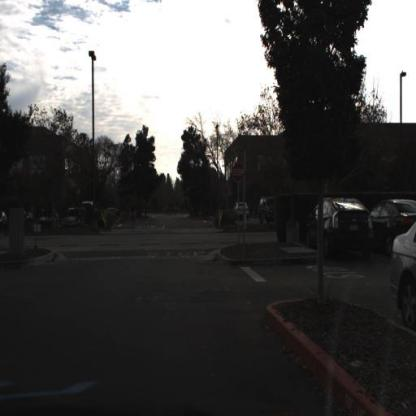biker: (129, 201, 141, 232)
car: (303, 195, 377, 265), (312, 198, 372, 266), (371, 196, 416, 255), (392, 219, 416, 327), (257, 195, 277, 226), (40, 206, 61, 235), (19, 207, 39, 233), (62, 207, 85, 228), (236, 198, 253, 219), (237, 199, 253, 220)
